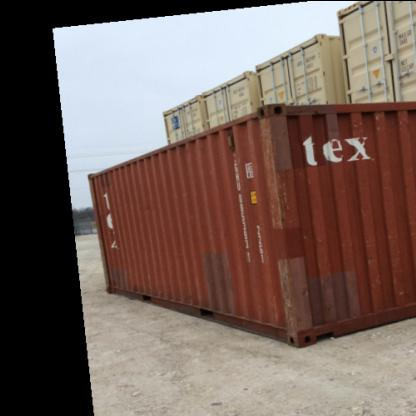Damage: (274, 254, 306, 332), (255, 108, 291, 166), (300, 276, 334, 334), (270, 166, 298, 226), (349, 108, 370, 138), (365, 268, 386, 288)
